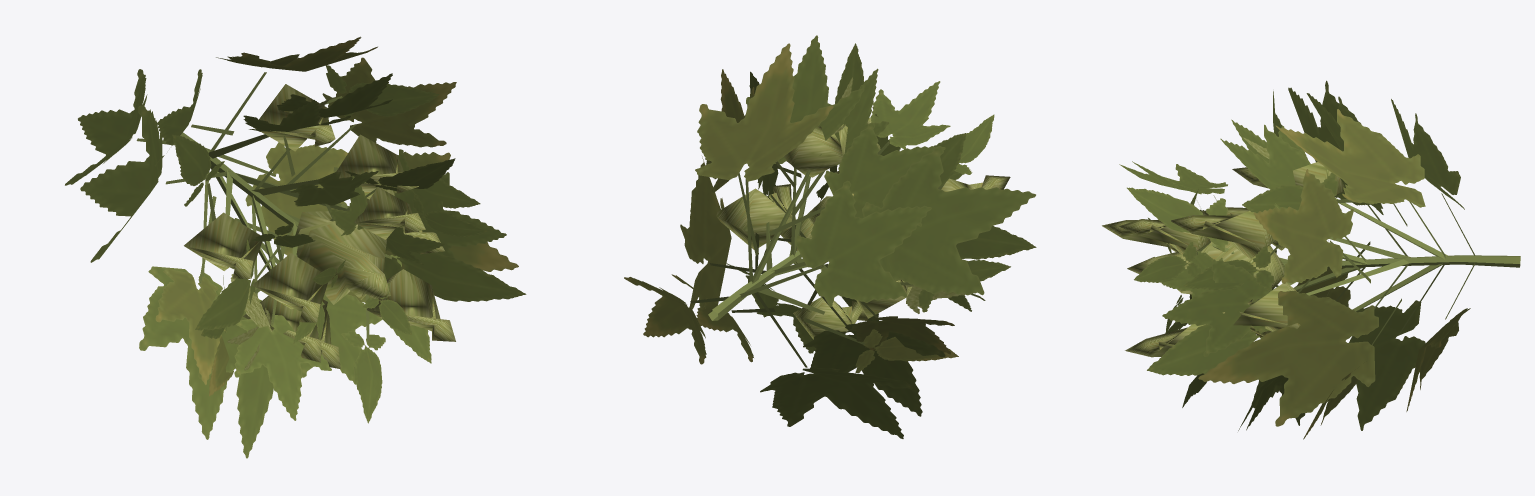
The model's file is p_afghan_ripe_c1_cards.obj.
3 views of the same model, side by side, from view 1: azimuth 30°, elevation 25°; view 2: azimuth 150°, elevation 25°; view 3: azimuth 270°, elevation 25° (orthographic). The views are drawn at different scales.
Bounding box in the file's own units: 1.47 × 1.4 × 1.26.
Materials: 1 (1 with a texture image).
